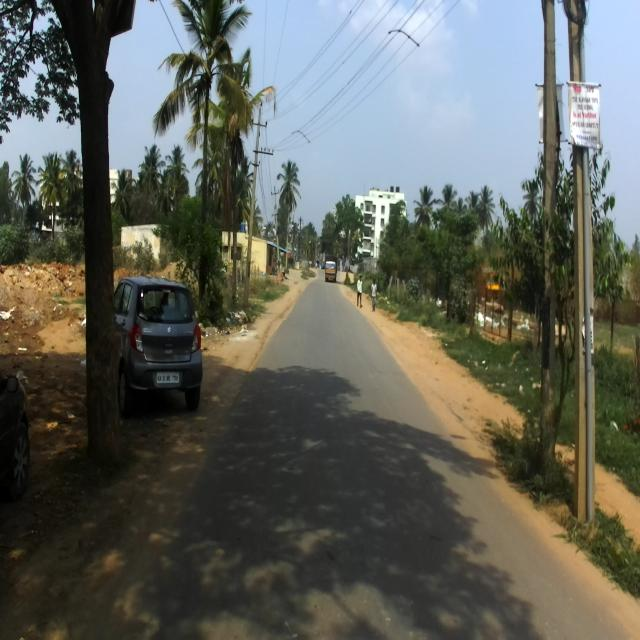car ahead at: (117, 273, 205, 418)
electric pole ahead at: (562, 6, 600, 546)
tree ahead at: (71, 34, 124, 455)
